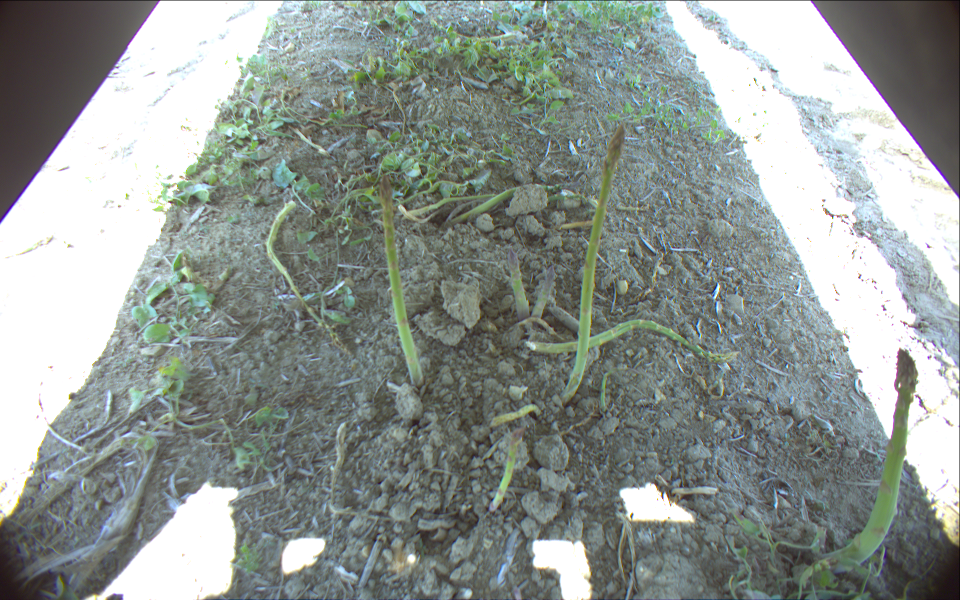aspa: (821, 346, 918, 577), (265, 200, 346, 355), (379, 174, 426, 385), (525, 319, 736, 361), (488, 430, 520, 509), (431, 22, 518, 43), (507, 250, 529, 321), (530, 264, 557, 316), (490, 403, 540, 429)
